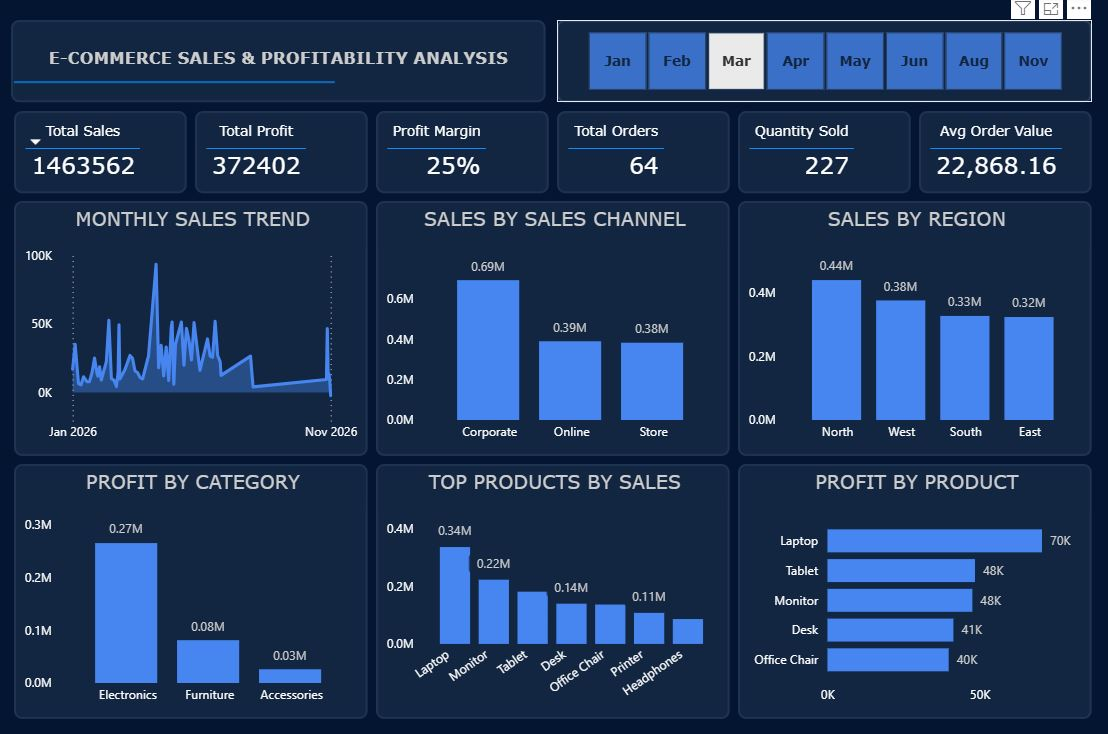

Layout of this report page (visuals, bound fields, positions):
{"tool":"powerbi","page":{"name":"SALES & PROFITABILITY DASHBOARD","canvas":[1280,720],"ordinal":0},"visuals":[{"type":"tableEx","fields":{"Values":["Sales_Data.Total Sales"]},"box":[115,110.4,168,80],"z":0},{"type":"tableEx","fields":{"Values":["Sales_Data.Total Profit"]},"box":[291,110.4,168,80],"z":1000},{"type":"tableEx","fields":{"Values":["Sales_Data.Profit Margin"]},"box":[467,110.4,168,80],"z":2000},{"type":"tableEx","fields":{"Values":["Sales_Data.Total Orders"]},"box":[643,110.4,168,80],"z":3000},{"type":"tableEx","fields":{"Values":["Sales_Data.Total Quantity Sold"]},"box":[819,110.4,168,80],"z":4000},{"type":"tableEx","fields":{"Values":["Sales_Data.Avg Order Value"]},"box":[995,110.4,168,80],"z":5000},{"type":"lineChart","title":"MONTHLY SALES TREND","fields":{"Y":["Sum(Sales_Data.Sales_Amount)"],"Category":["Sales_Data.Order_Date.Variation.Date Hierarchy.Day"]},"box":[115,198.4,344,248],"z":6000},{"type":"clusteredColumnChart","title":"PROFIT BY CATEGORY","fields":{"Category":["Sales_Data.Category"],"Y":["Sales_Data.Profit"]},"box":[115,454.4,344,248],"z":7000},{"type":"clusteredColumnChart","title":"SALES BY REGION","fields":{"Category":["Sales_Data.Region"],"Y":["Sum(Sales_Data.Sales_Amount)"]},"box":[819,198.4,344,248],"z":8000},{"type":"lineClusteredColumnComboChart","title":"TOP PRODUCTS BY SALES","fields":{"Category":["Sales_Data.Product"],"Y":["Sum(Sales_Data.Sales_Amount)"]},"box":[467,454.4,344,248],"z":9000},{"type":"clusteredBarChart","title":"PROFIT BY PRODUCT","fields":{"Category":["Sales_Data.Product"],"Y":["Sales_Data.Profit"]},"box":[819,454.4,344,248],"z":10000},{"type":"slicer","fields":{"Values":["Sales_Data.Month"]},"box":[643,22.4,520,80],"z":11000},{"type":"clusteredColumnChart","title":"SALES BY SALES CHANNEL","fields":{"Category":["Sales_Data.Sales_Channel"],"Y":["Sum(Sales_Data.Sales_Amount)"]},"box":[467,198.4,344,248],"z":12000},{"type":"textbox","box":[112,22.4,520,80],"z":13000},{"type":"shape","box":[115,6.4,312,152],"z":14000}]}

Visuals, with their boxes on the page's 1280x720 design canvas (x1, y1, x2, y2). These are canvas units, not pixel positions in the 1108x734 screenshot, which may show the page scaled, cropped or inside an application window:
tableEx - Sales_Data.Total Sales: rect(115, 110, 283, 190)
tableEx - Sales_Data.Total Profit: rect(291, 110, 459, 190)
tableEx - Sales_Data.Profit Margin: rect(467, 110, 635, 190)
tableEx - Sales_Data.Total Orders: rect(643, 110, 811, 190)
tableEx - Sales_Data.Total Quantity Sold: rect(819, 110, 987, 190)
tableEx - Sales_Data.Avg Order Value: rect(995, 110, 1163, 190)
"MONTHLY SALES TREND" lineChart: rect(115, 198, 459, 446)
"PROFIT BY CATEGORY" clusteredColumnChart: rect(115, 454, 459, 702)
"SALES BY REGION" clusteredColumnChart: rect(819, 198, 1163, 446)
"TOP PRODUCTS BY SALES" lineClusteredColumnComboChart: rect(467, 454, 811, 702)
"PROFIT BY PRODUCT" clusteredBarChart: rect(819, 454, 1163, 702)
slicer - Sales_Data.Month: rect(643, 22, 1163, 102)
"SALES BY SALES CHANNEL" clusteredColumnChart: rect(467, 198, 811, 446)
textbox: rect(112, 22, 632, 102)
shape: rect(115, 6, 427, 158)
